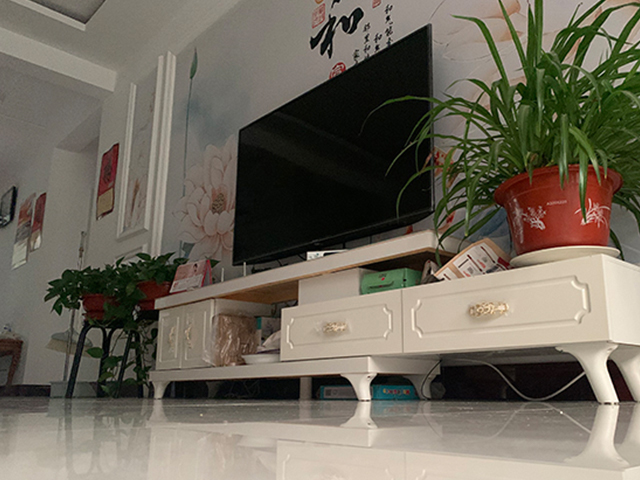cabinet: (147, 229, 639, 406)
